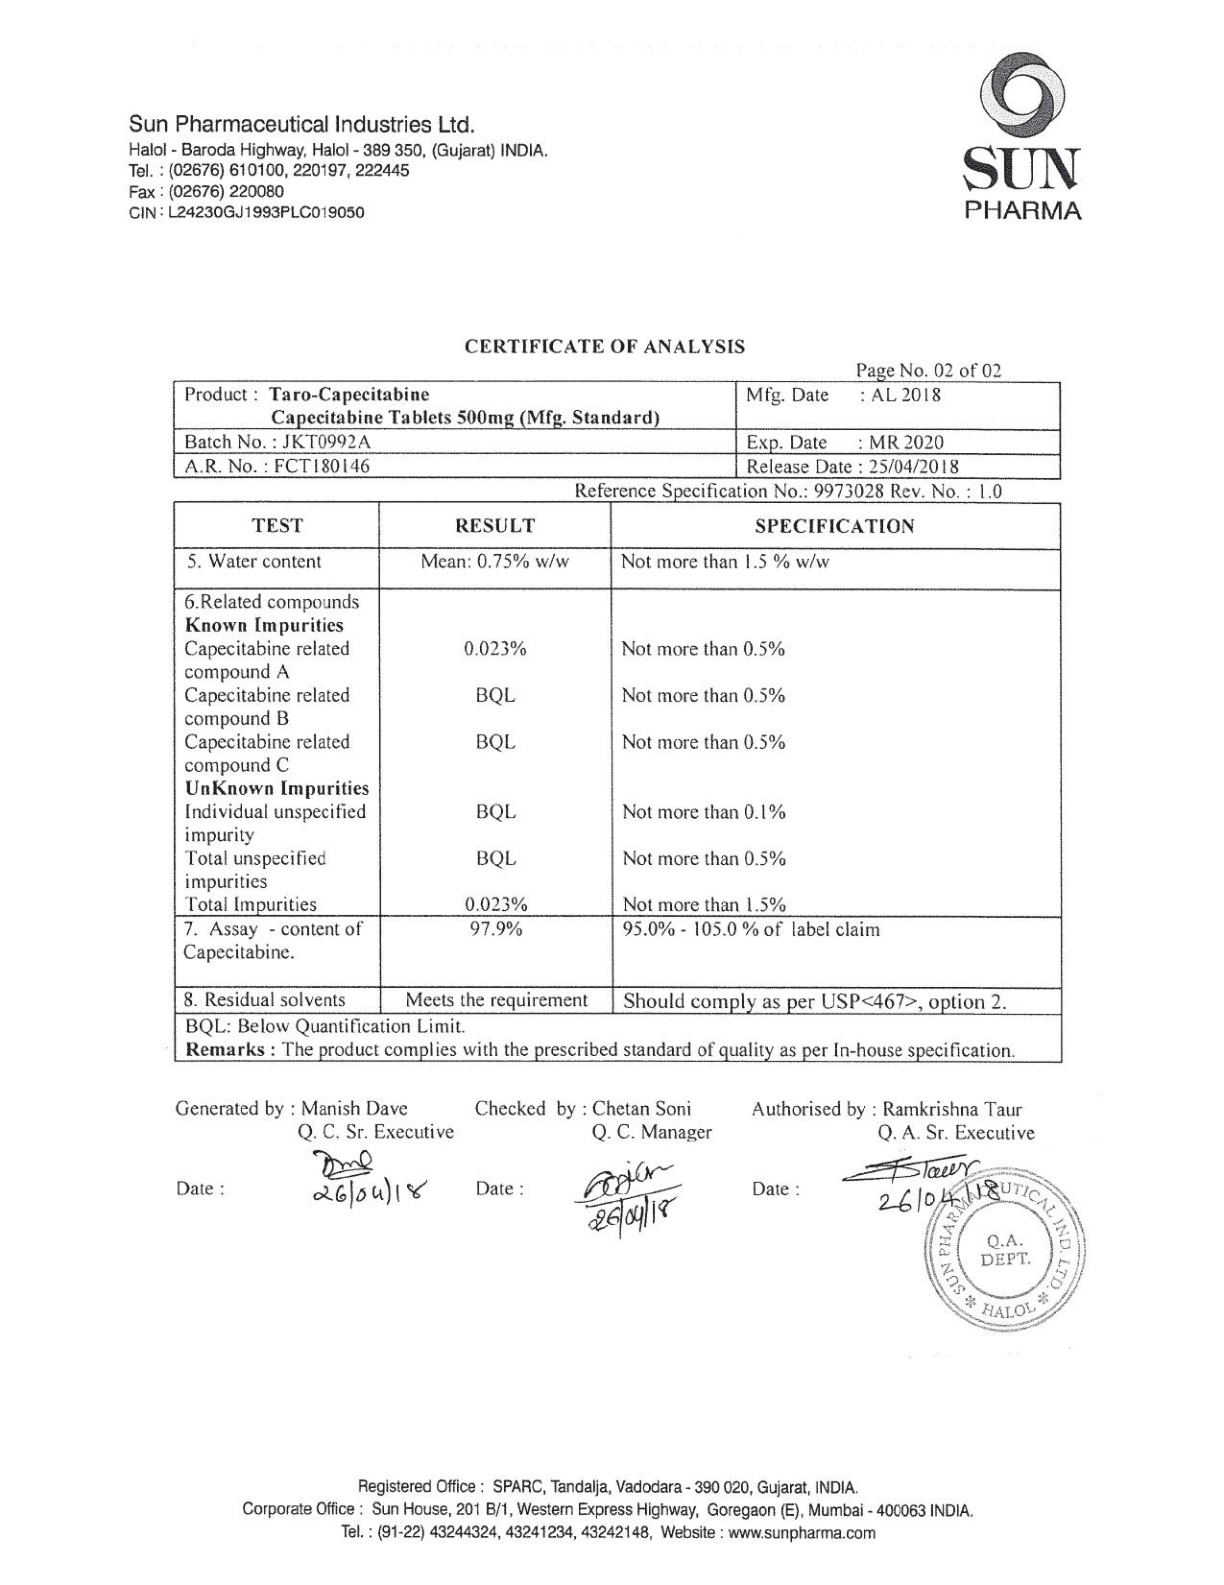full_lined: (171, 379, 1062, 479)
merged_cells: (171, 500, 1065, 1064)
